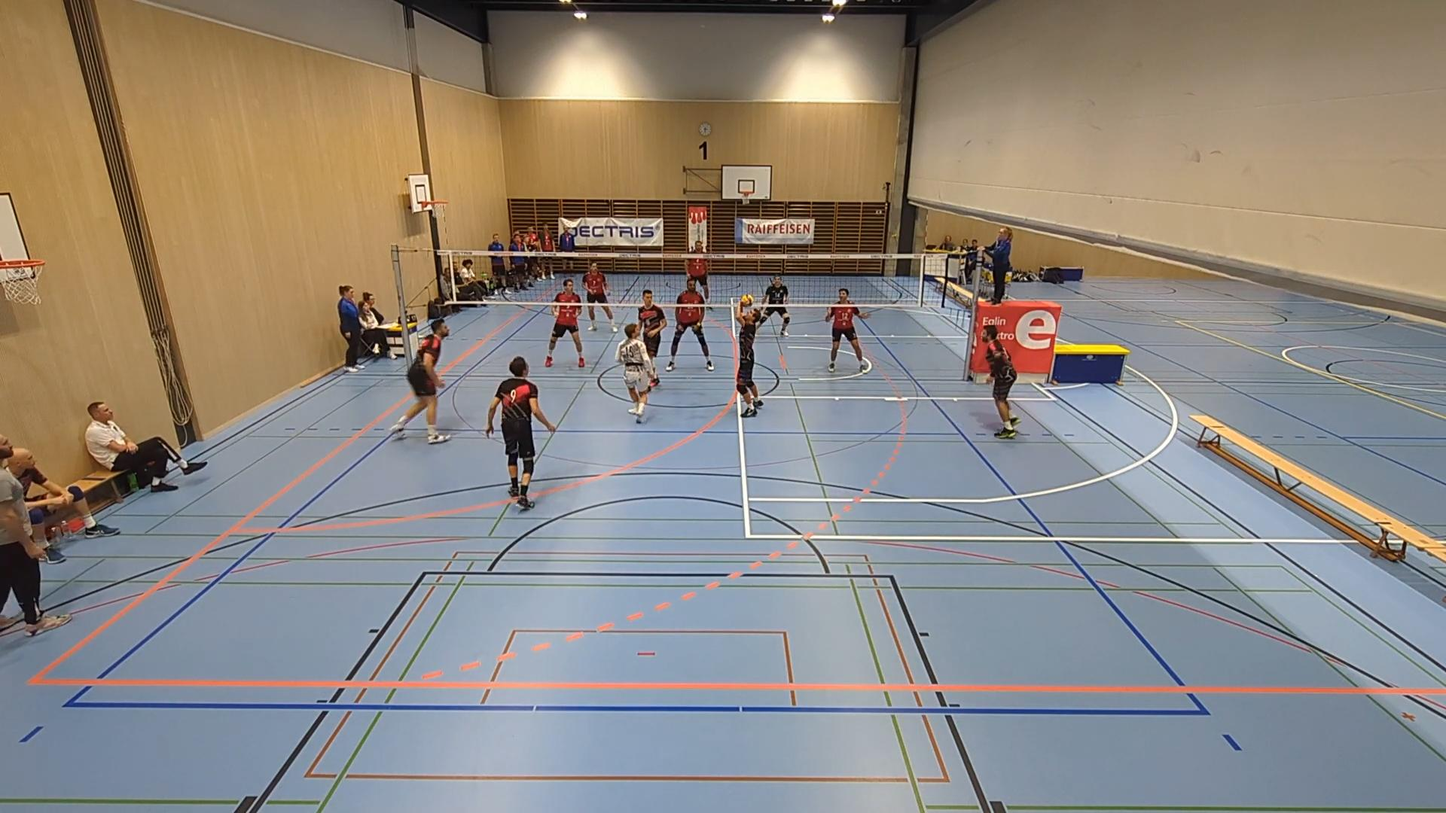alzata: (726, 299, 767, 419)
